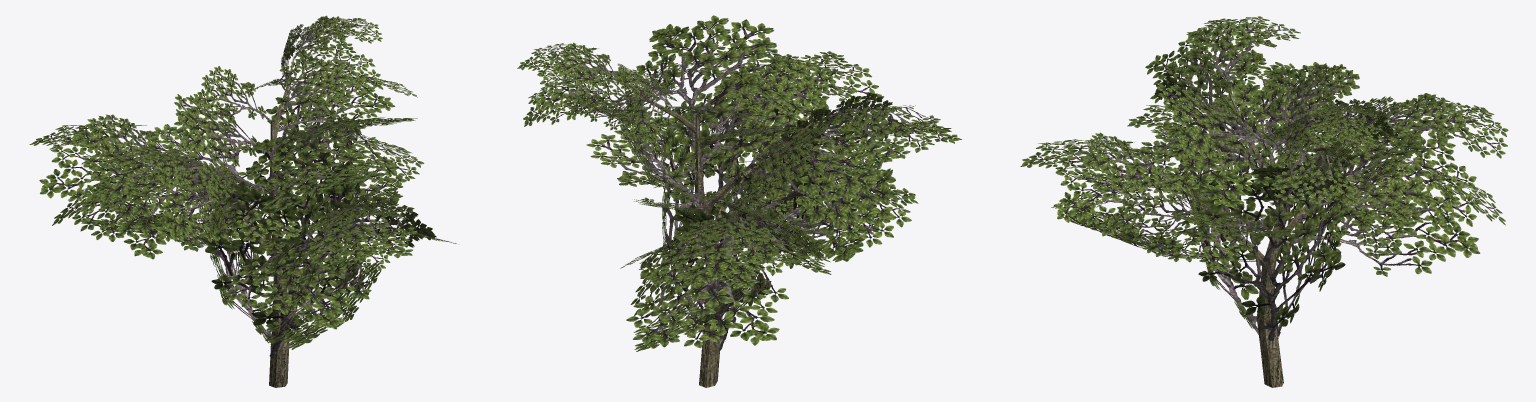
The model's file is flora_tree_tropic_rainforest_v4.glb.
3 views of the same model, side by side, from view 1: azimuth 30°, elevation 25°; view 2: azimuth 150°, elevation 25°; view 3: azimuth 270°, elevation 25° (orthographic). The views are drawn at different scales.
Visible parts, largest first — view 1: flora_tree_tropic_rainforest_v4_part0; view 2: flora_tree_tropic_rainforest_v4_part0; view 3: flora_tree_tropic_rainforest_v4_part0.
Part boxes in pixels (bbox=[...]): flora_tree_tropic_rainforest_v4_part0: bbox=[29, 15, 456, 387]; flora_tree_tropic_rainforest_v4_part0: bbox=[517, 15, 961, 387]; flora_tree_tropic_rainforest_v4_part0: bbox=[1020, 16, 1508, 387].
Bounding box in the file's own units: 15.4 × 12.74 × 18.41.
1 material, 1 textured.
